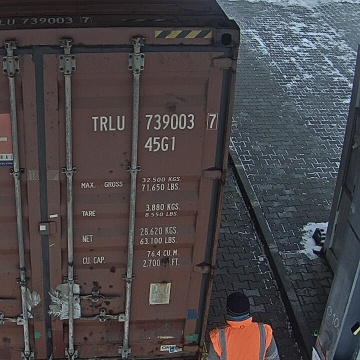serial_id: (92, 113, 216, 131)
